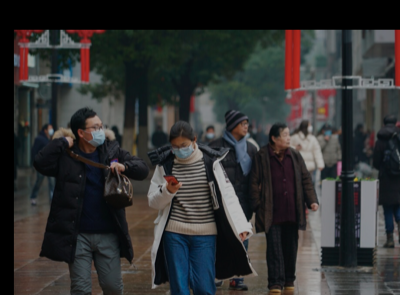with_mask: (86, 121, 105, 147), (171, 141, 194, 159), (205, 128, 215, 140), (304, 121, 313, 134), (324, 126, 333, 137), (47, 125, 54, 137)
without_mask: (276, 129, 292, 149), (234, 119, 249, 137)
